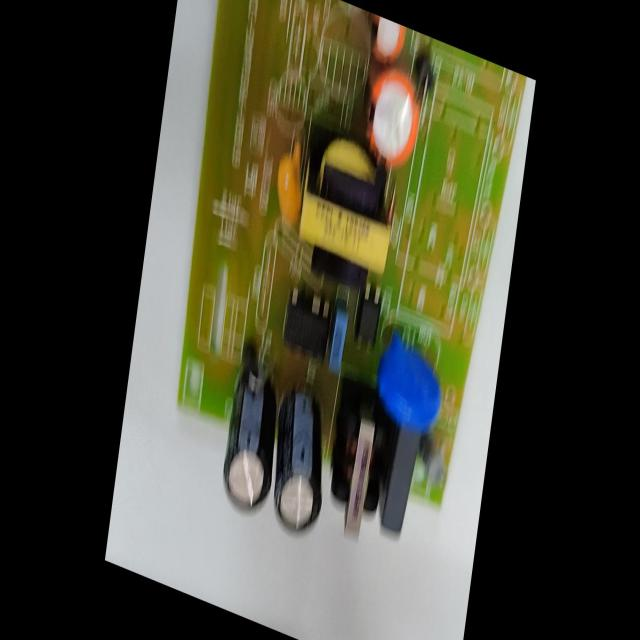Cap1: (356, 52, 428, 185)
Cap2: (357, 9, 411, 73)
Cap3: (265, 379, 336, 553)
Cap4: (214, 353, 288, 528)
MOSFET: (277, 277, 334, 373)
Mov: (367, 321, 451, 446)
Transformer: (288, 132, 400, 309), (321, 403, 394, 558)
